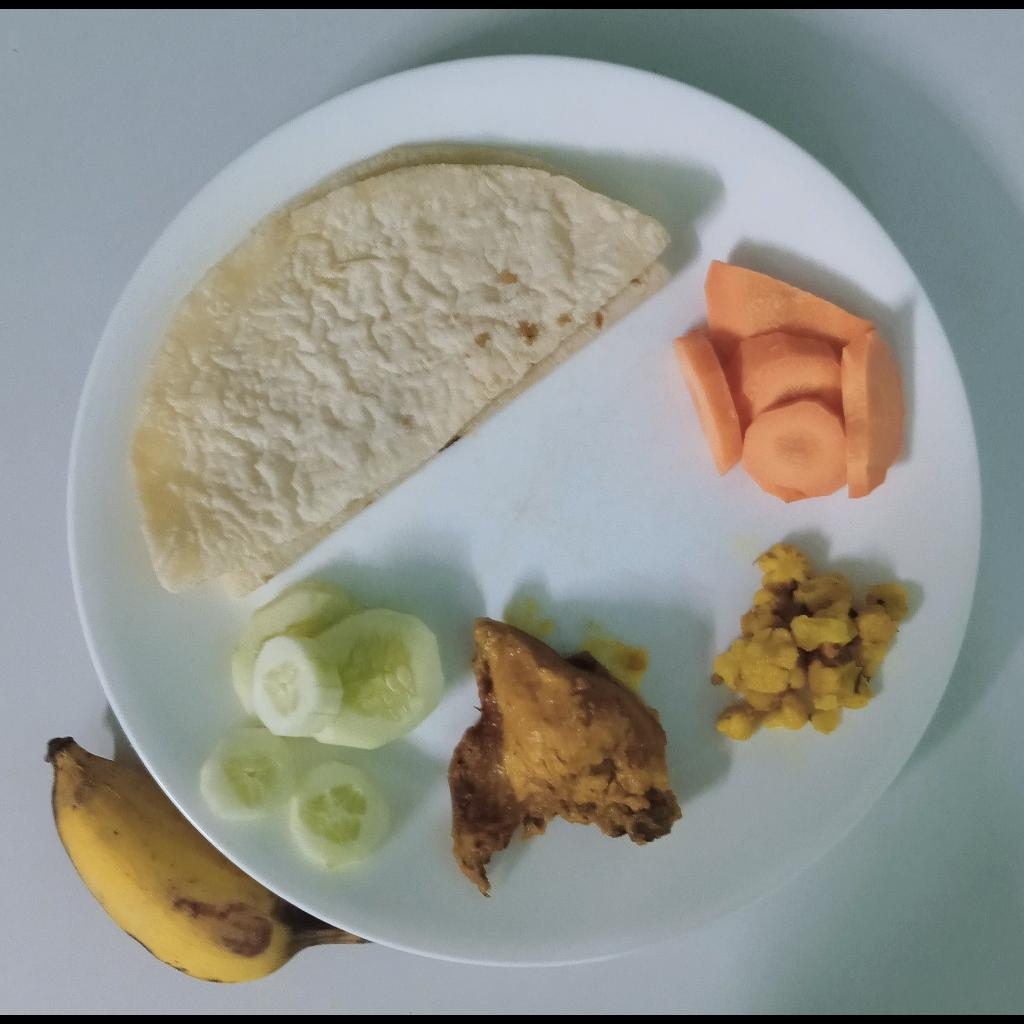banana: (48, 738, 369, 985)
carrot: (672, 258, 905, 505)
chicken: (447, 616, 682, 899)
cucumber: (198, 583, 445, 866)
kumra-vaji: (709, 544, 912, 745)
ruti: (131, 144, 679, 602)
